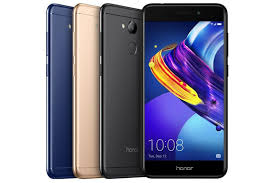huawei: (141, 1, 229, 179), (99, 2, 144, 177)
